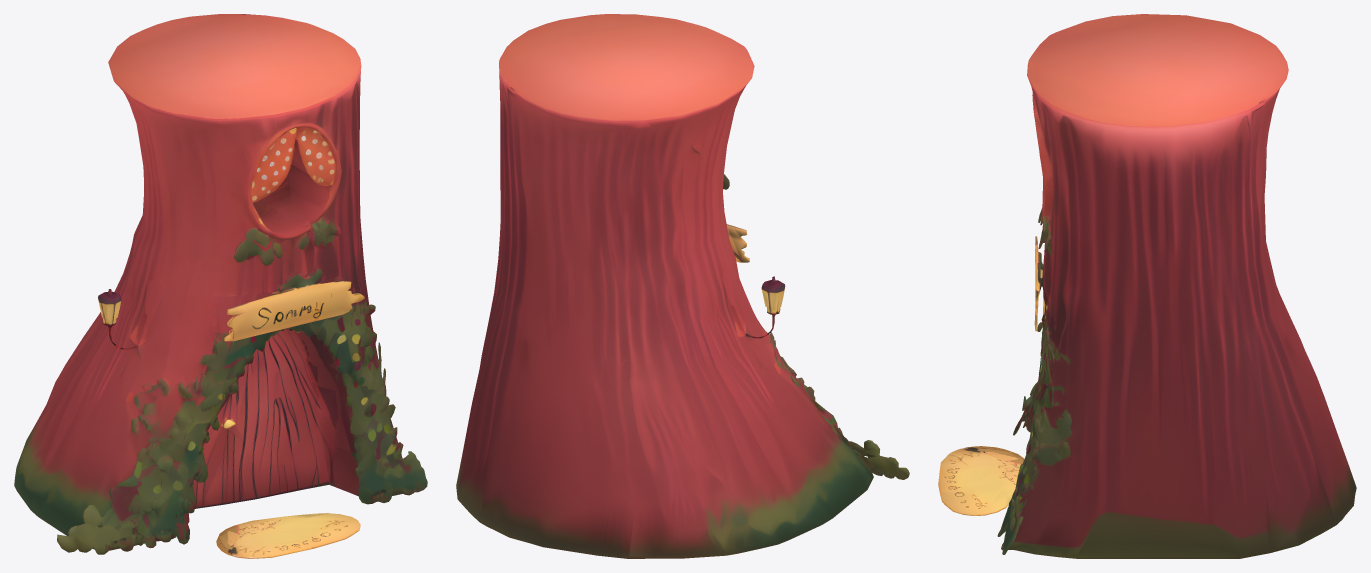
File: tree.glb
3 renders of one model, left to right at view 1: azimuth 30°, elevation 25°; view 2: azimuth 150°, elevation 25°; view 3: azimuth 270°, elevation 25°, orthographic. The views are drawn at different scales.
Visible parts, largest first — view 1: model; view 2: model; view 3: model.
Part boxes in pixels (box(x1,y1,x2,y2)): model: box(14, 14, 427, 558); model: box(456, 14, 909, 558); model: box(938, 14, 1356, 558).
Bounding box in the file's own units: 1.74 × 1.9 × 1.69.
Materials: 1 (1 with a texture image).
